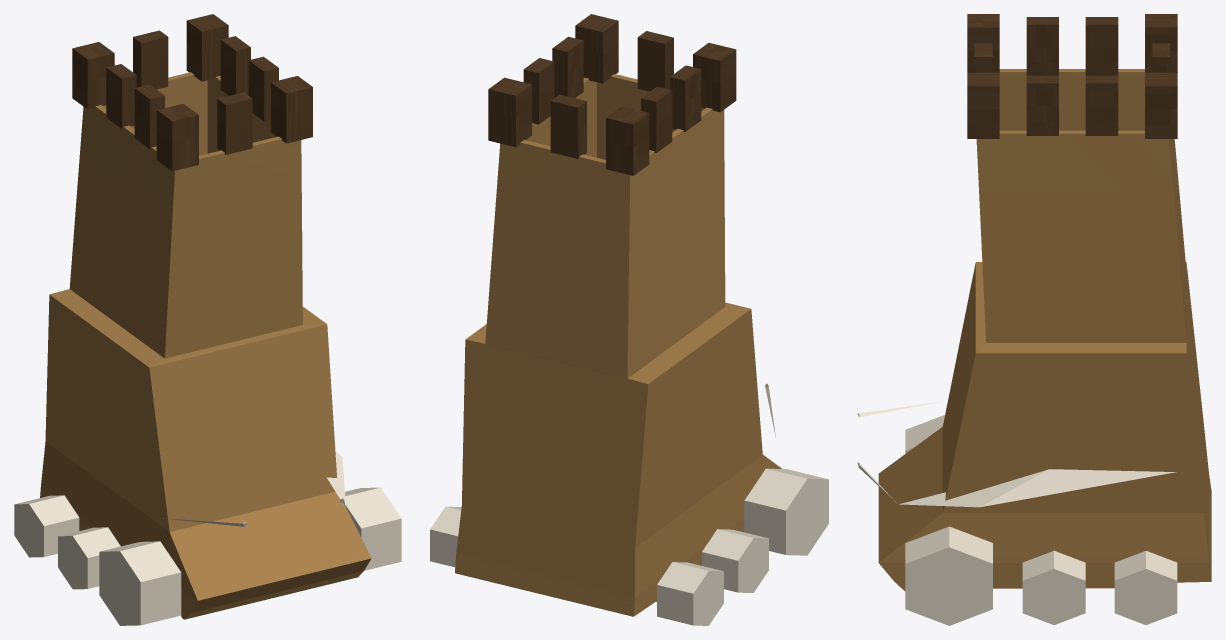
Rendered from ae_siege_tower_open_lod2.glb.
The picture shows the model from 3 angles, left to right: view 1: azimuth 30°, elevation 25°; view 2: azimuth 150°, elevation 25°; view 3: azimuth 270°, elevation 25°; orthographic projection. The views are drawn at different scales.
Parts seen in each view (by area): view 1: siege_tower_open; view 2: siege_tower_open; view 3: siege_tower_open.
Boxes of the visible parts, x1=… form: siege_tower_open: x1=14, y1=14, x2=401, y2=625; siege_tower_open: x1=430, y1=14, x2=828, y2=625; siege_tower_open: x1=857, y1=14, x2=1211, y2=625.
Size of the model in its own units: 46.39 by 82.22 by 51.85.
Materials: 3 (2 with a texture image).
